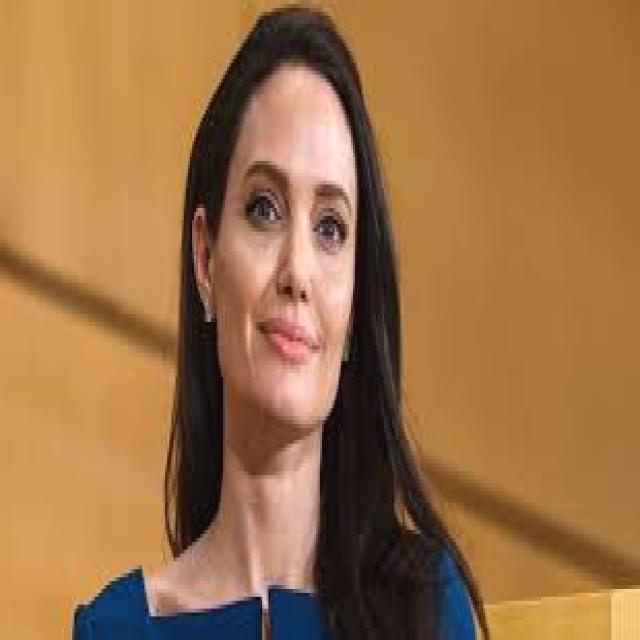normal_face: (194, 38, 354, 447)
